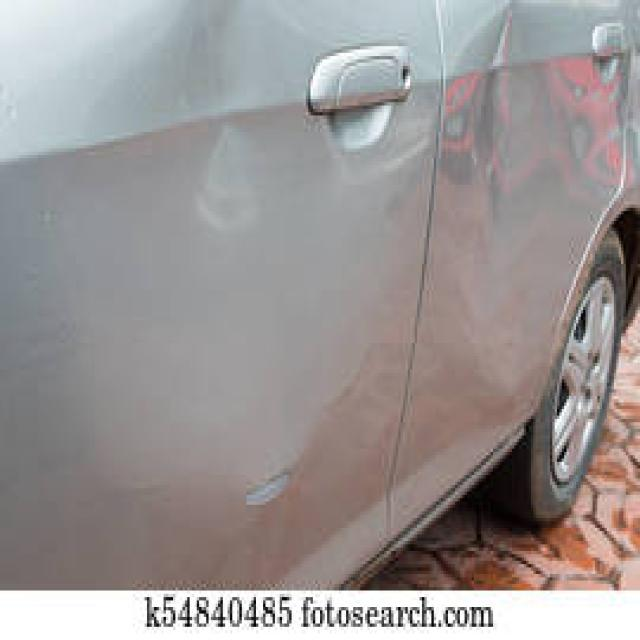dent: (10, 0, 640, 584)
